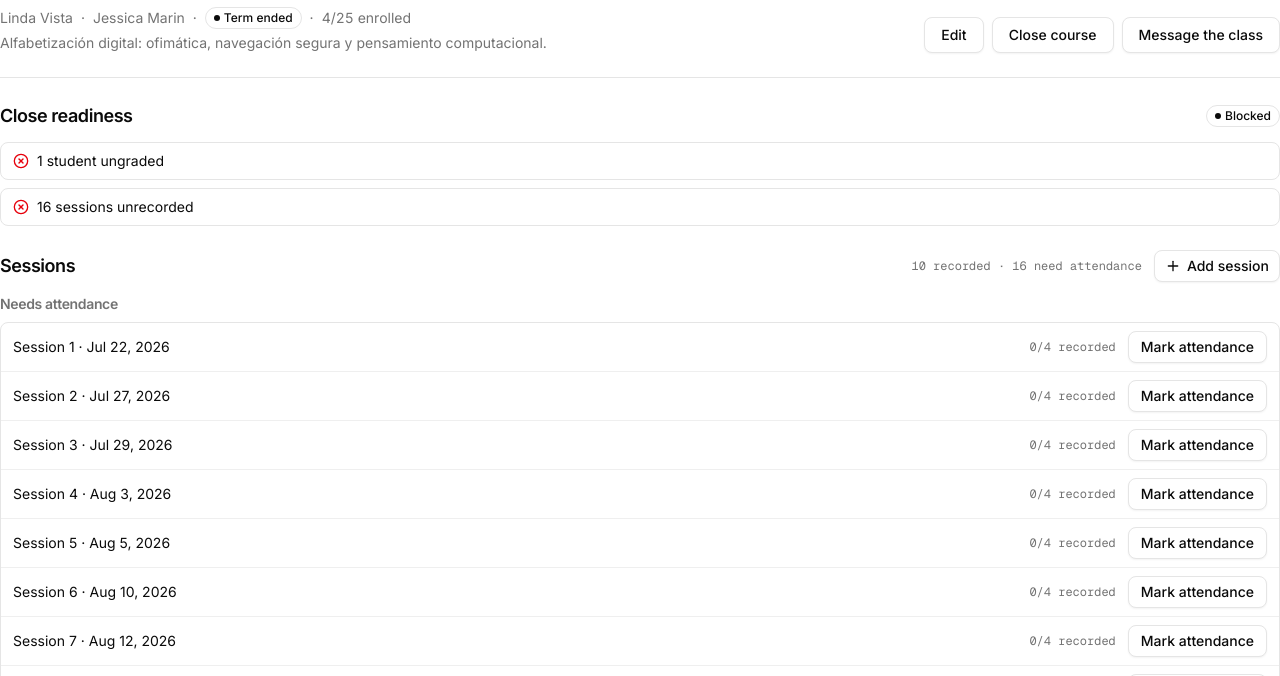
Test case: <CoursesDetailPage /> — Sent messages card (ADR-0046) › lands a freshly sent class message in the card, with no reload
Expected: the heading "Sent messages" is not shown
Click the button "Message the class" at (1201, 35), box top-left (1122, 17), bottom-right (1279, 53)
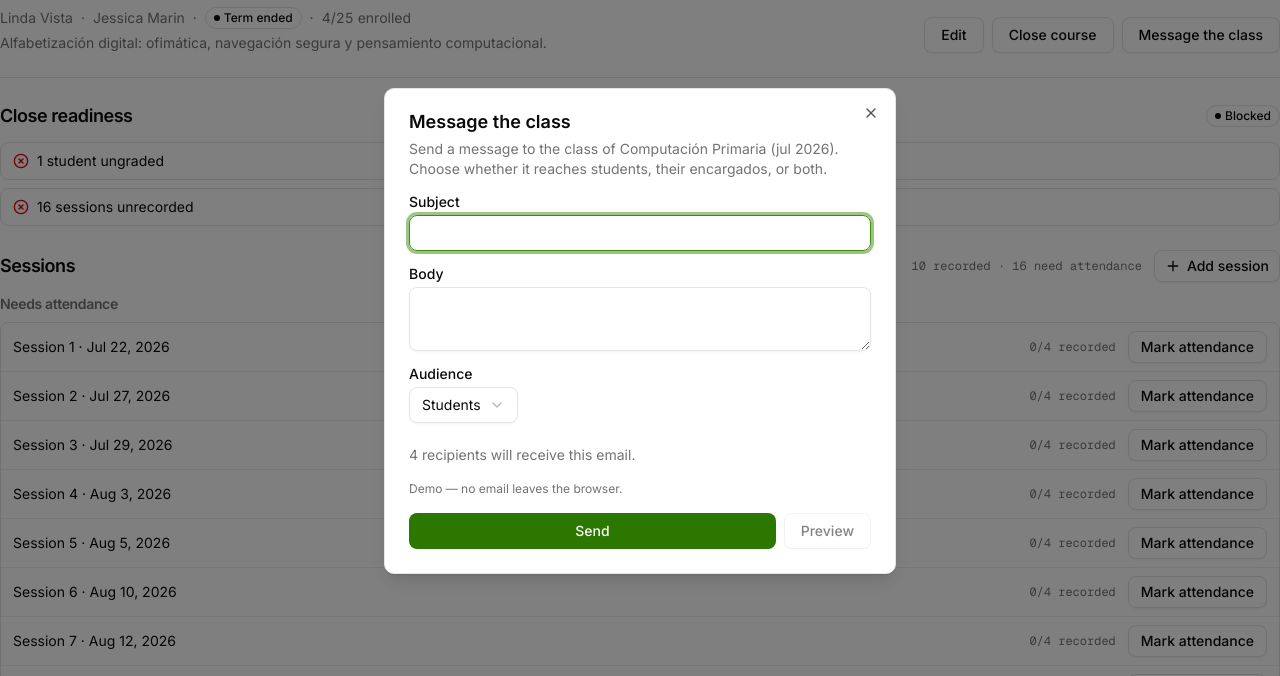
Type "Materiales de esta semana" into the field labelled "Subject" at (640, 233), box top-left (409, 215), bottom-right (871, 251)
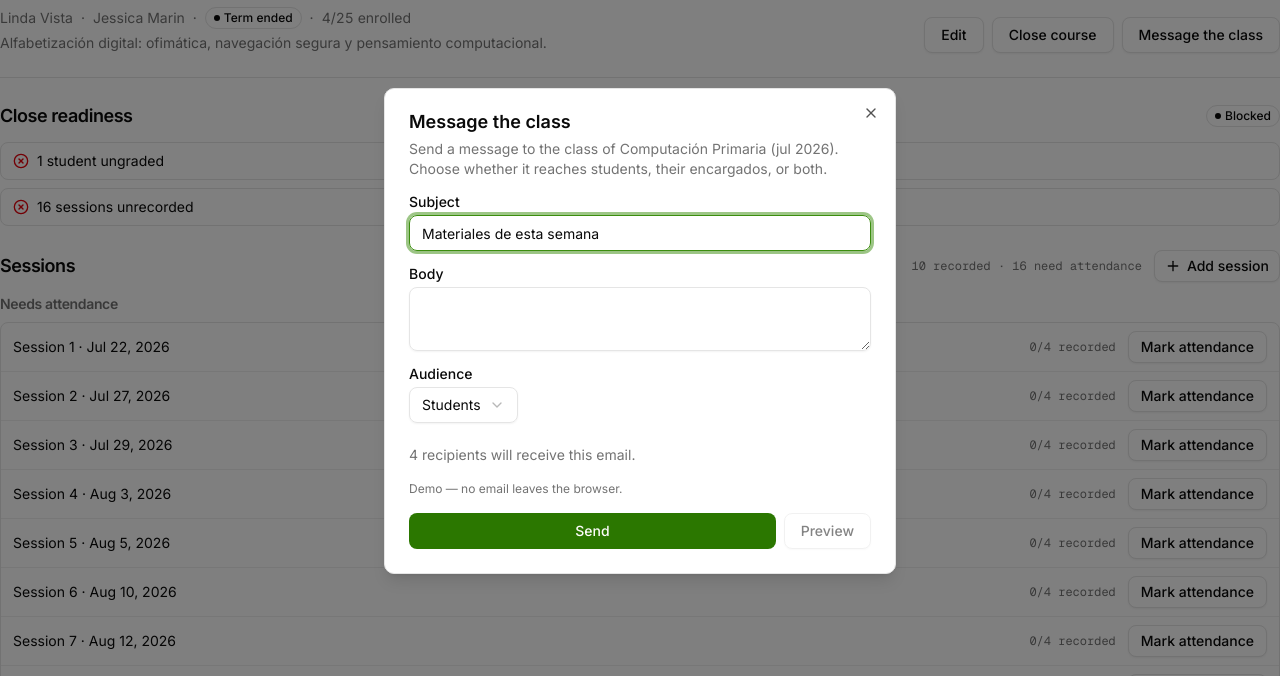
Type "Traigan su cuaderno de apuntes." into the text box labelled "Body" at (640, 319), box top-left (409, 287), bottom-right (871, 351)
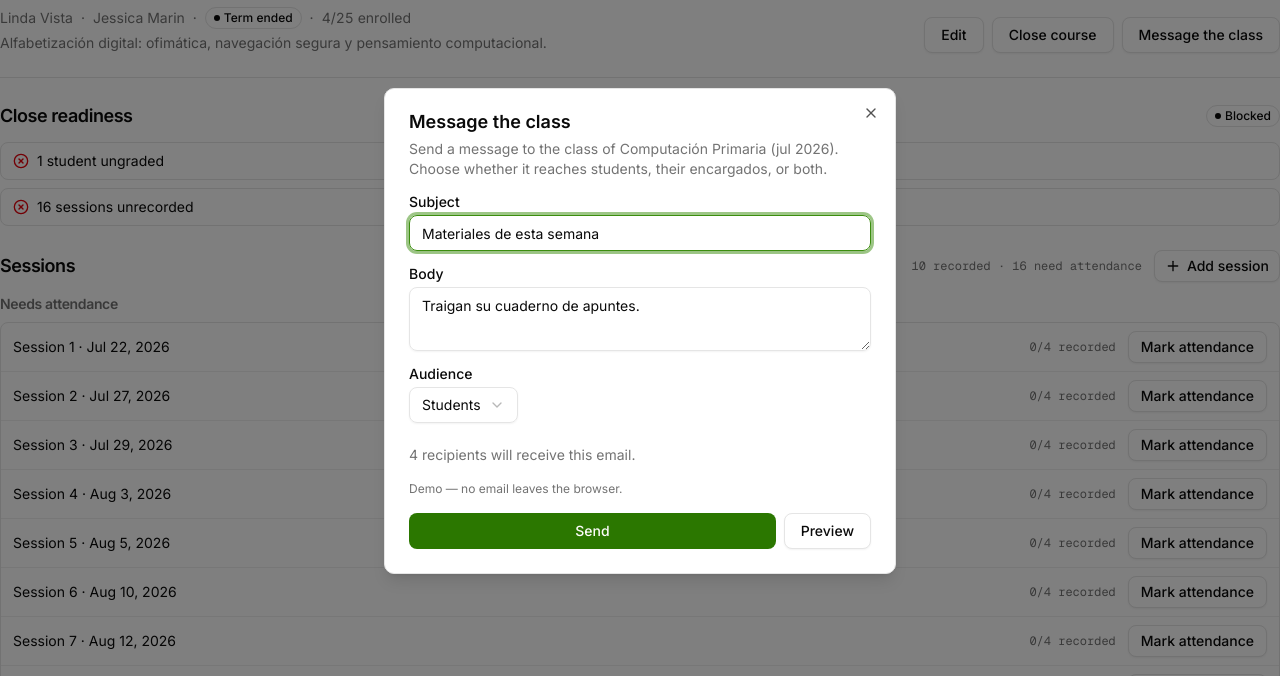
Click the button "Send" at (592, 531), box top-left (409, 513), bottom-right (776, 549)
(page scrolled)
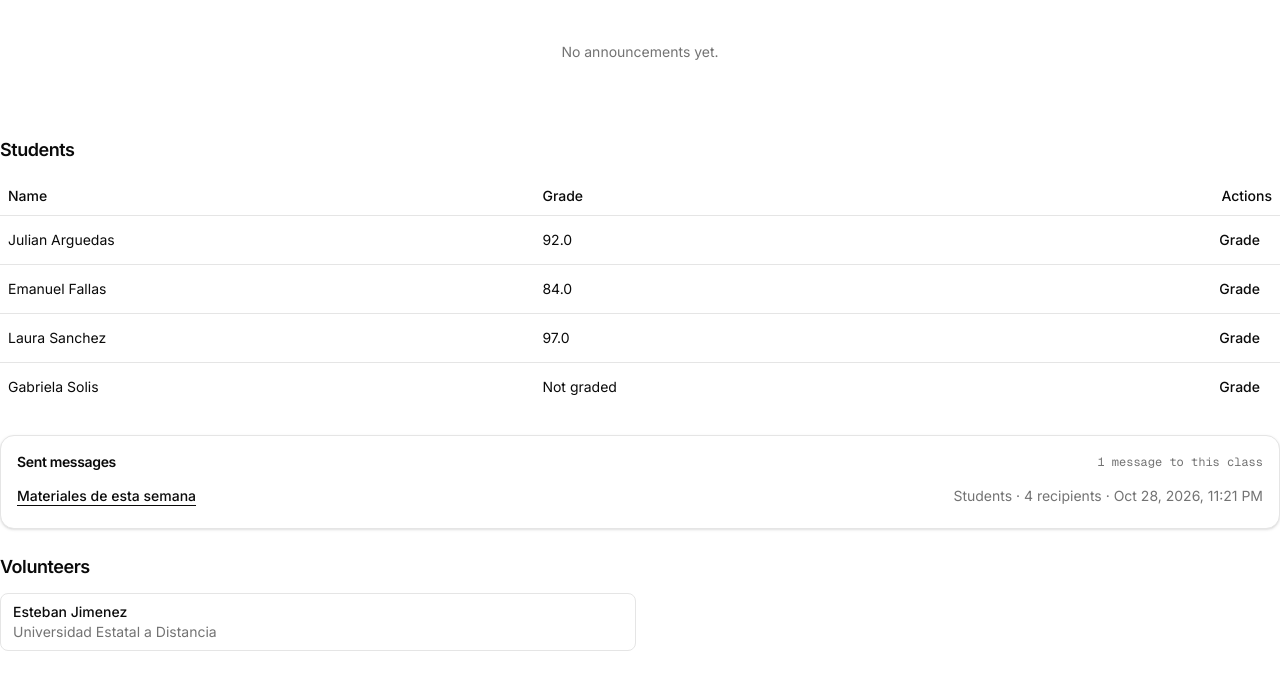
Now the button "Materiales de esta semana" is shown, box top-left (17, 486), bottom-right (196, 506)
